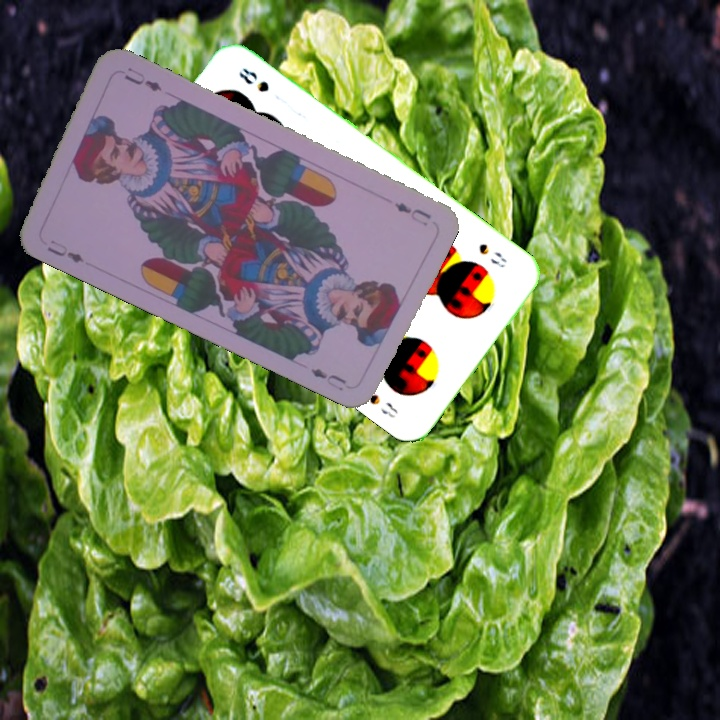EU: (390, 198, 434, 229), (43, 235, 86, 266)
S8: (474, 239, 510, 271)
